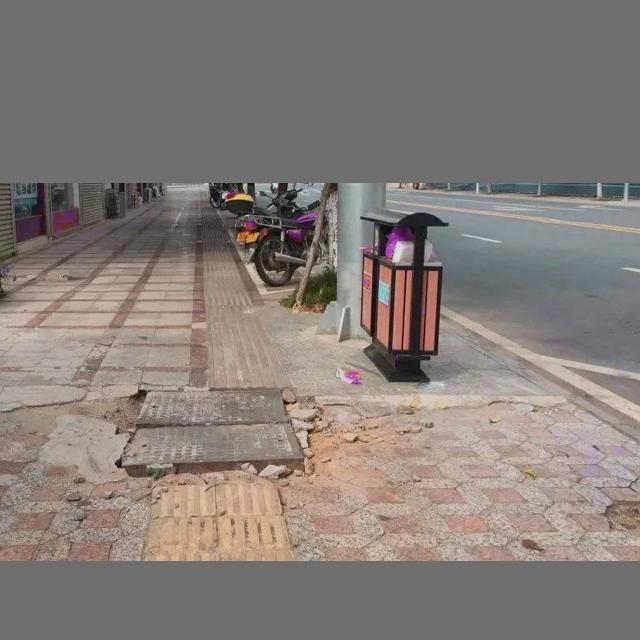circle: (83, 365, 358, 518)
